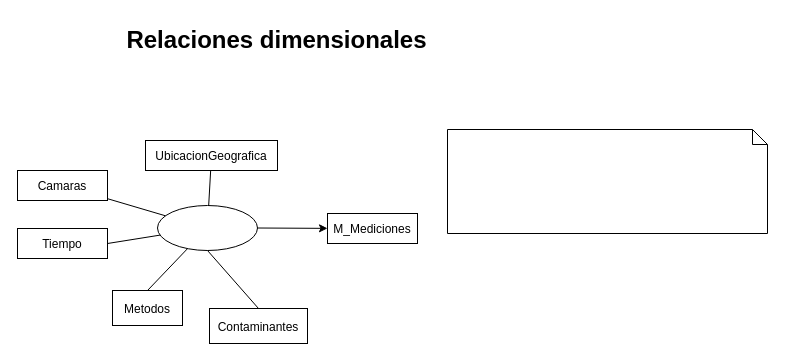
The diagram is 785 pixels wide and 361 high, and some of its shapes have lost their labels. The box of each missing label's shape, as (x1, y1, x2, y2) in pixels:
Mediciones: (156, 204, 258, 250)
Notas: (446, 128, 768, 234)
